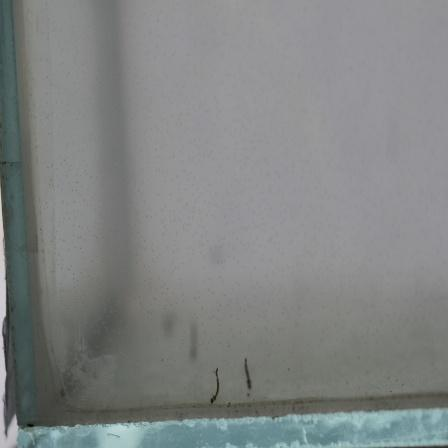Jentik-Nyamuk: (200, 366, 225, 407), (238, 351, 257, 393)
